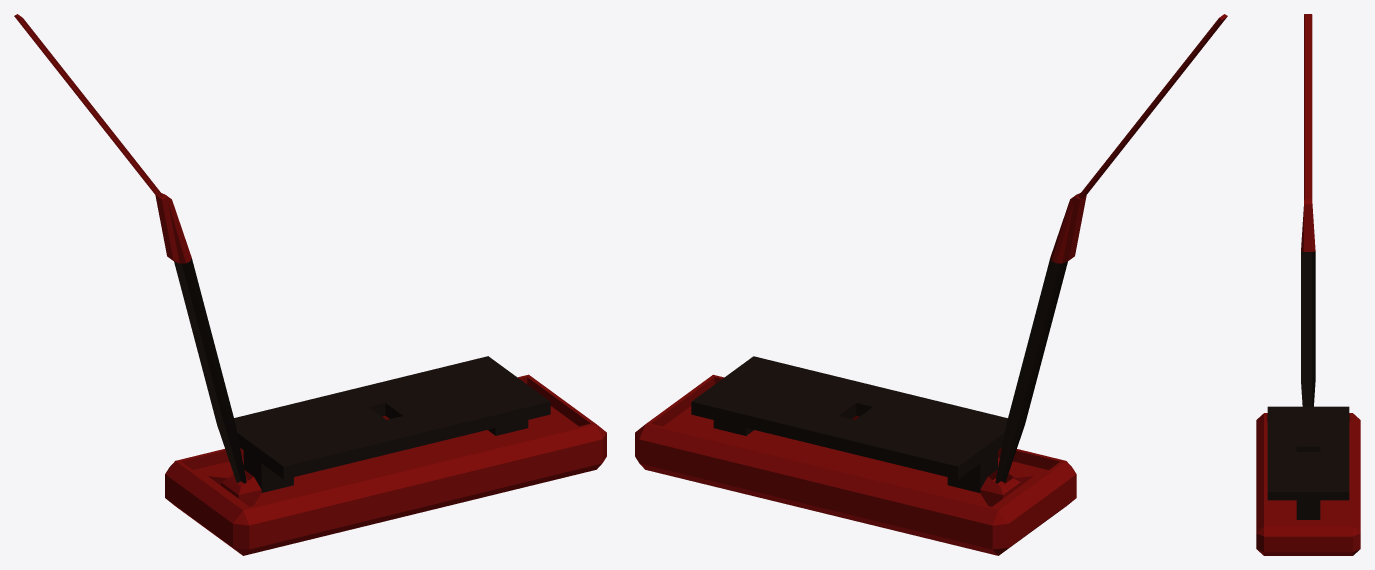
Rendered from CarJack.fbx.
The picture shows the model from 3 angles, left to right: view 1: azimuth 30°, elevation 25°; view 2: azimuth 150°, elevation 25°; view 3: azimuth 270°, elevation 25°; orthographic projection. The views are drawn at different scales.
Visible parts, largest first — view 1: Cube.001; view 2: Cube.001; view 3: Cube.001.
Part boxes in pixels (x1,y1,x2,y2): Cube.001: (14, 14, 606, 555); Cube.001: (635, 14, 1227, 555); Cube.001: (1256, 14, 1360, 555).
Size of the model in its own units: 805 by 777 by 200.
